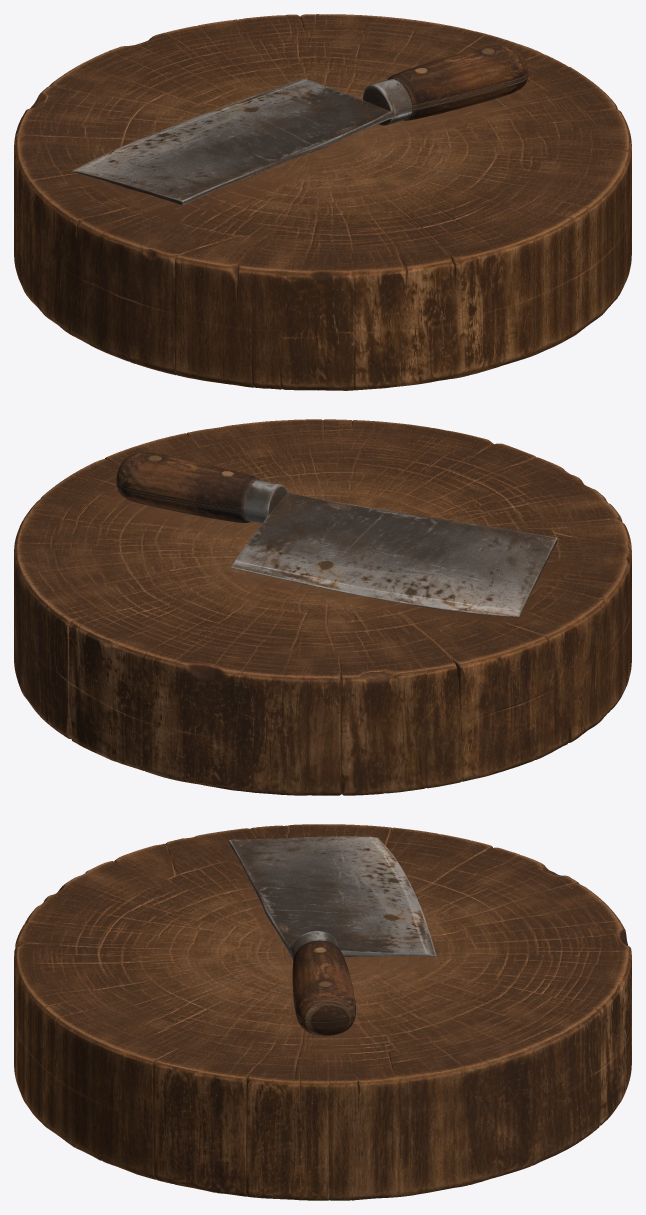
File: k_block.glb
The picture shows the model from 3 angles, top to bottom: view 1: azimuth 30°, elevation 25°; view 2: azimuth 150°, elevation 25°; view 3: azimuth 270°, elevation 25°; orthographic projection.
Bounding box in the file's own units: 1.9 × 0.5773 × 1.9.
1 material, 1 textured.
